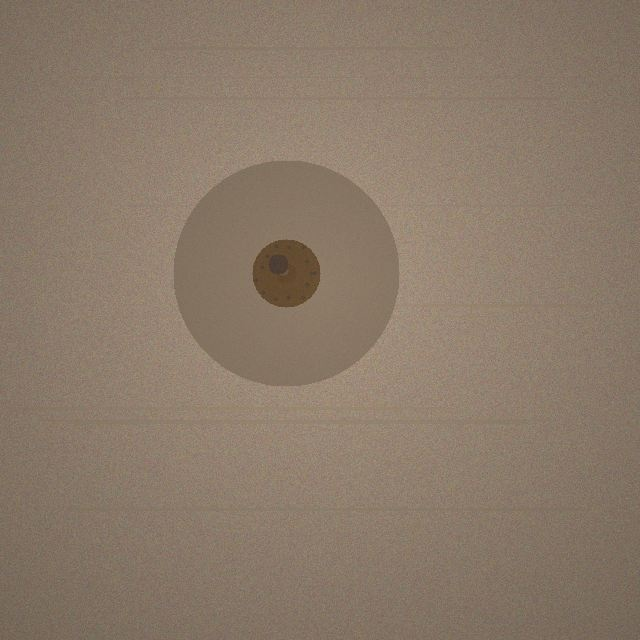cold_weld: (173, 160, 399, 386)
